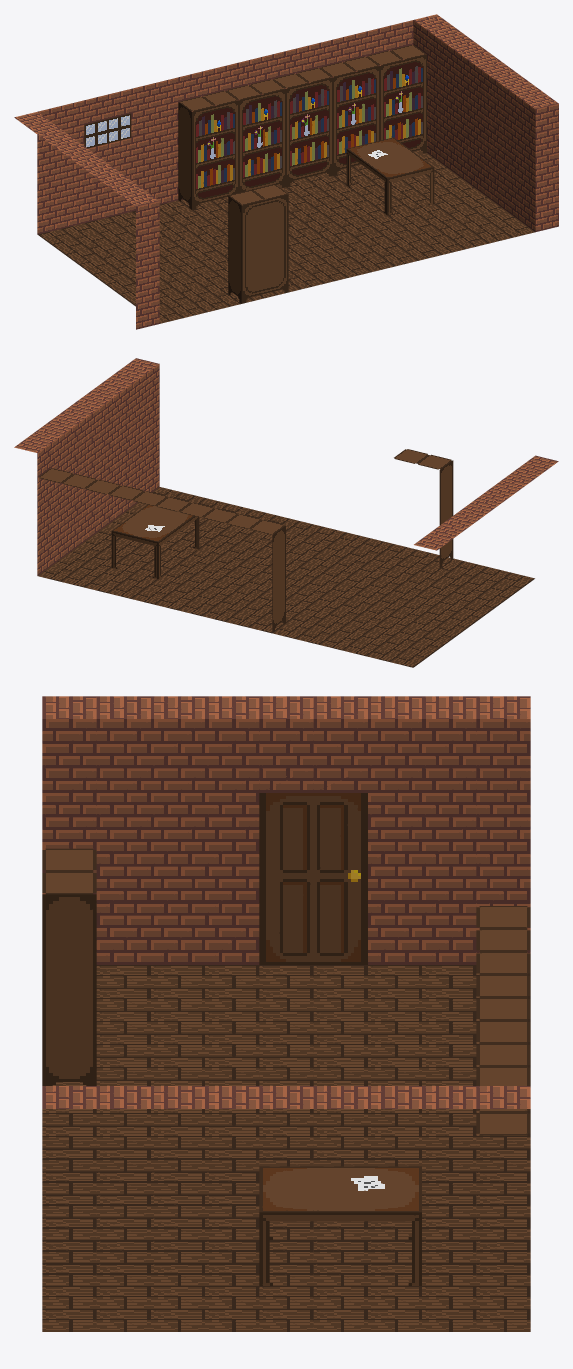
The model's file is Post Office Rough Render.gltf.
The picture shows the model from 3 angles, top to bottom: view 1: azimuth 30°, elevation 25°; view 2: azimuth 150°, elevation 25°; view 3: azimuth 270°, elevation 25°; orthographic projection. The views are drawn at different scales.
Size of the model in its own units: 18 by 6 by 9.
1 material, 1 textured.
